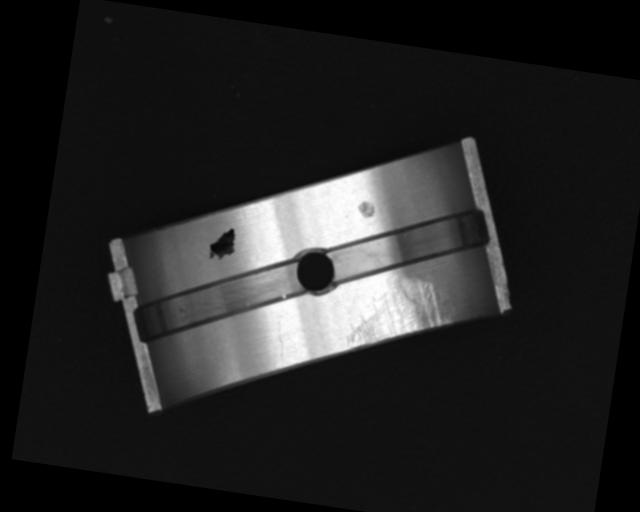blot: (206, 225, 239, 264)
bruise: (356, 199, 377, 221)
gap: (131, 239, 312, 361), (324, 189, 496, 305)
hole: (288, 243, 340, 301)
nick: (268, 319, 291, 364)
scratch: (344, 267, 459, 364)
